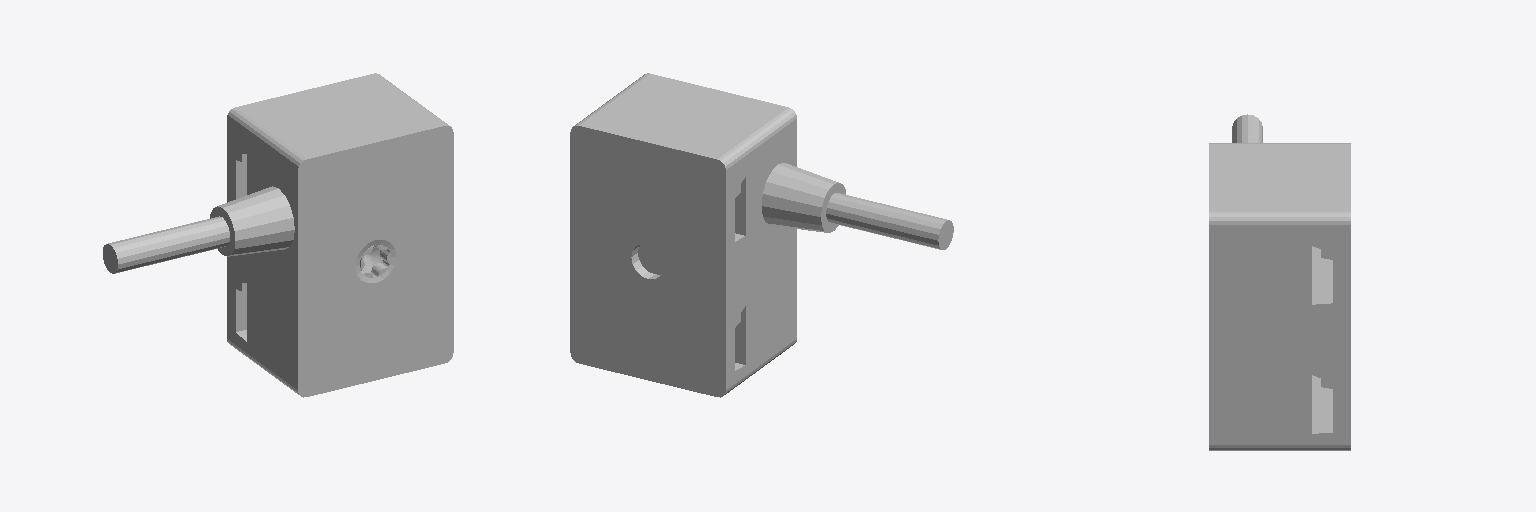
The model's file is AS-Interface sensor module VBA-2E-G10-ZAJ-1M-V1-W.obj.
3 views of the same model, side by side, from view 1: azimuth 30°, elevation 25°; view 2: azimuth 150°, elevation 25°; view 3: azimuth 270°, elevation 25° (orthographic).
Size of the model in its own units: 57.7 by 40.5 by 22.